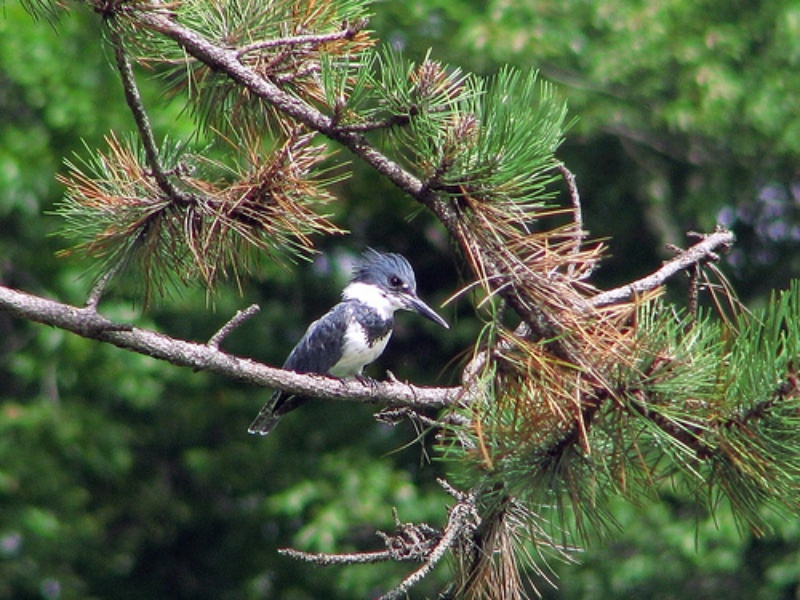kingfisher: (241, 250, 450, 444)
